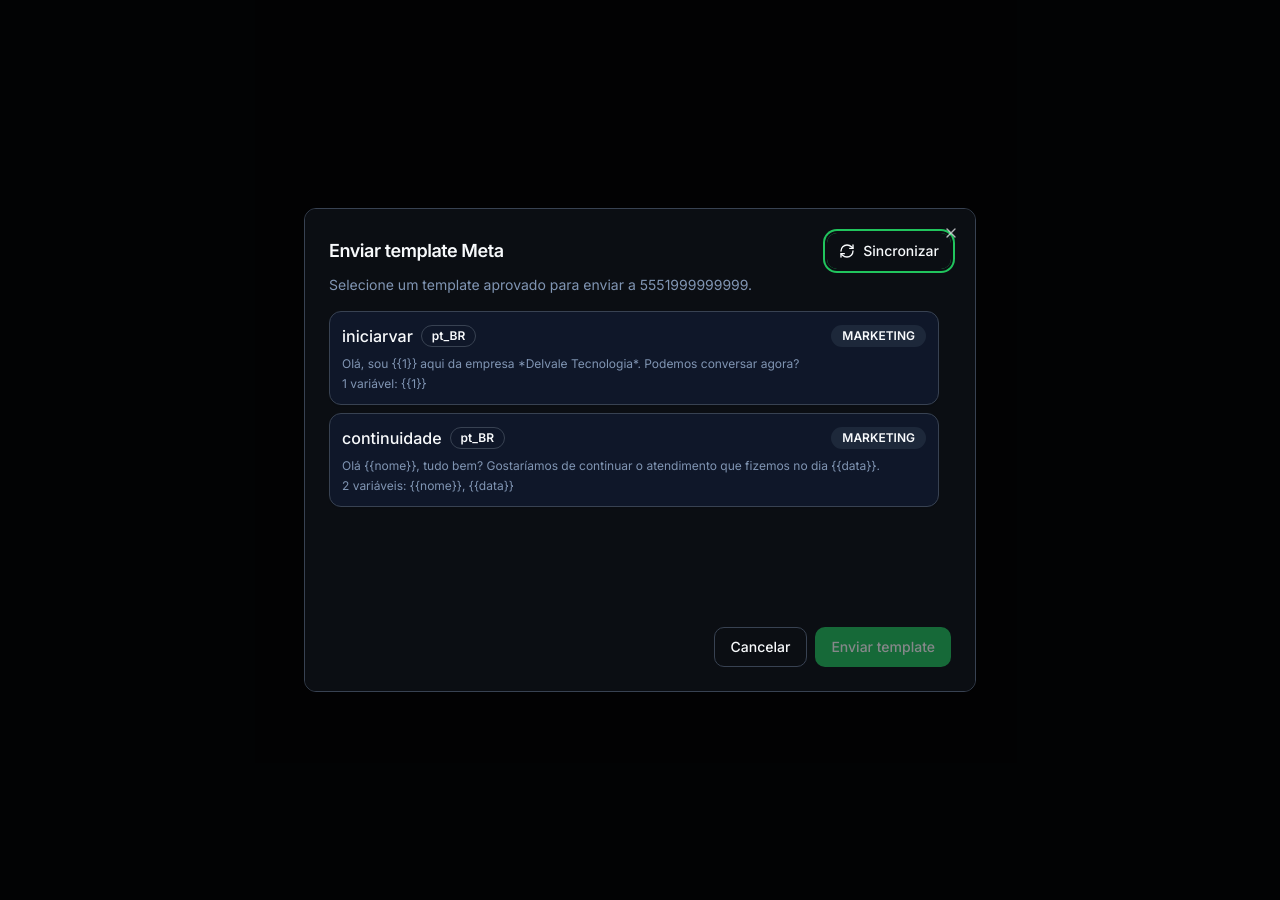
MetaTemplatePicker · pré-preenchimento (DEM-0350) › sem nome de operador conhecido, o campo fica vazio em vez de inventar
The image size is (1280, 900).
Click the text "iniciarvar": [377, 336] box [342, 324, 413, 348]
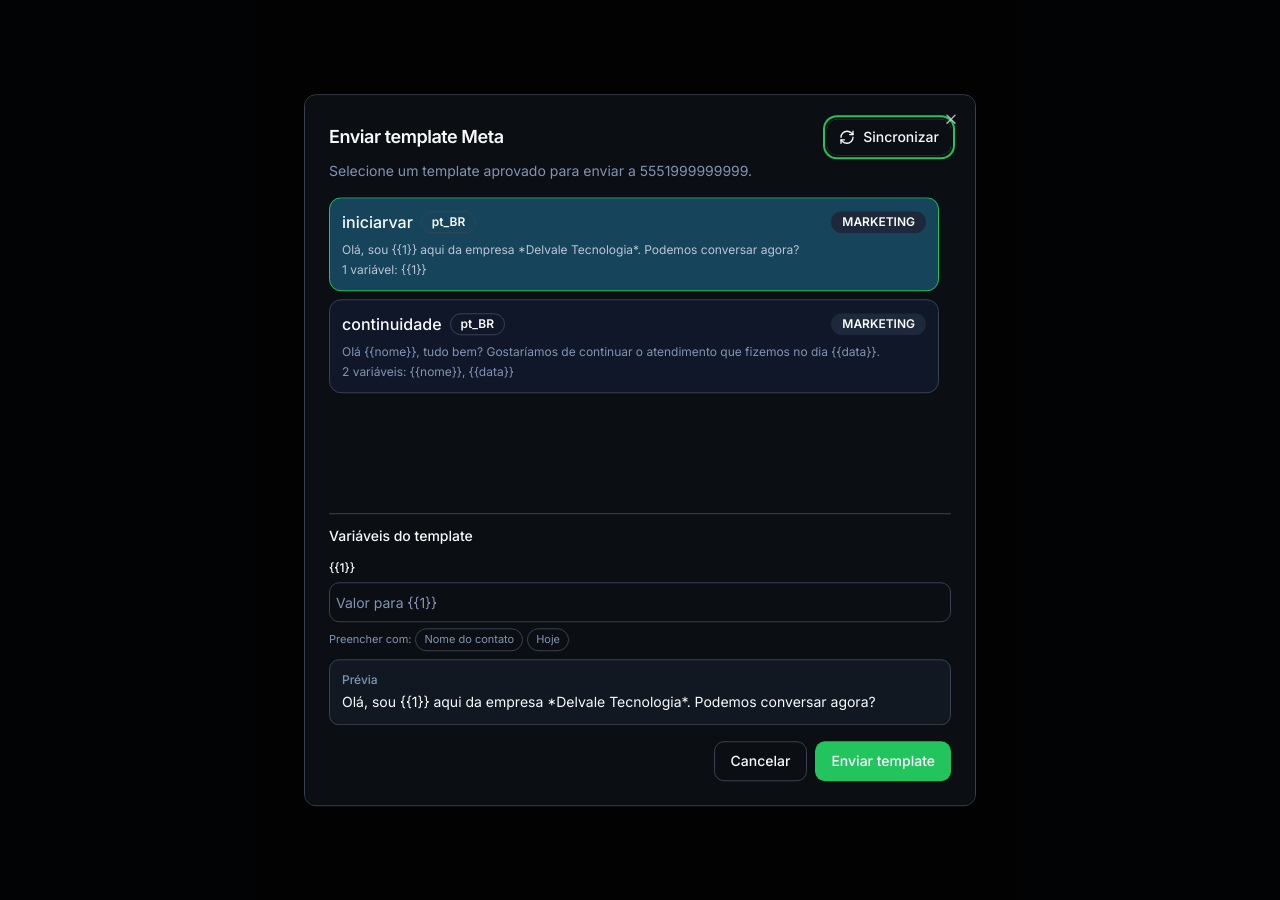
Expected: the text "sou {{1}} aqui da empresa" is shown, [342, 242, 799, 257]
Result: the field with placeholder "Valor para {{1}}" is empty at [329, 582, 951, 622]
